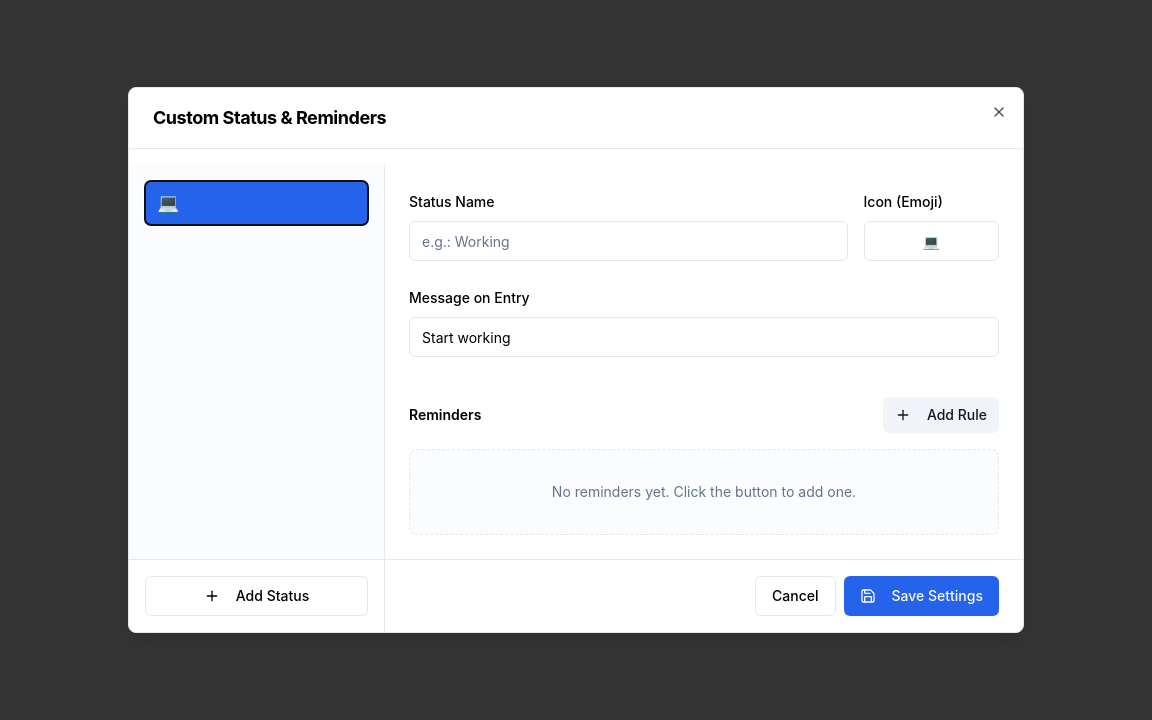
Scenario: StatusSettingsModal › should handle submission error and show retry
The image size is (1152, 720).
Click the button "Save Settings": (921, 596) [844,576,999,616]
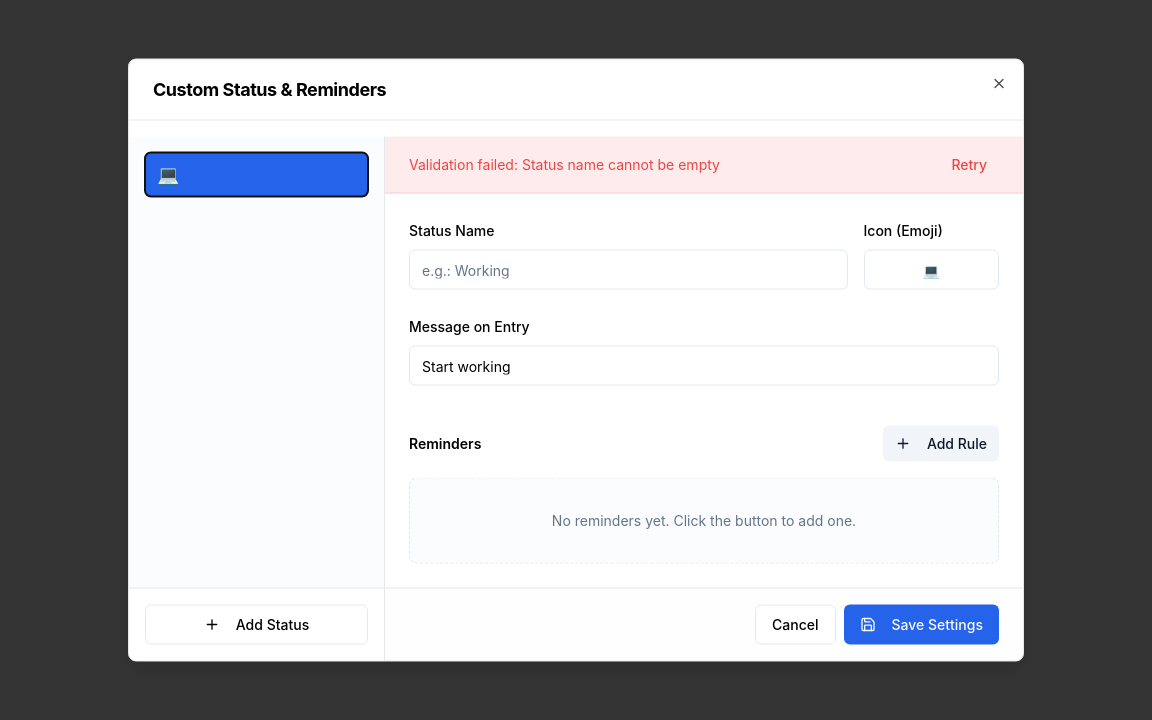
Expected: the text "Validation failed: Status name cannot be empty" is shown, [409,154,720,174]
Expected: the button "Retry" is shown, [939,148,999,180]
